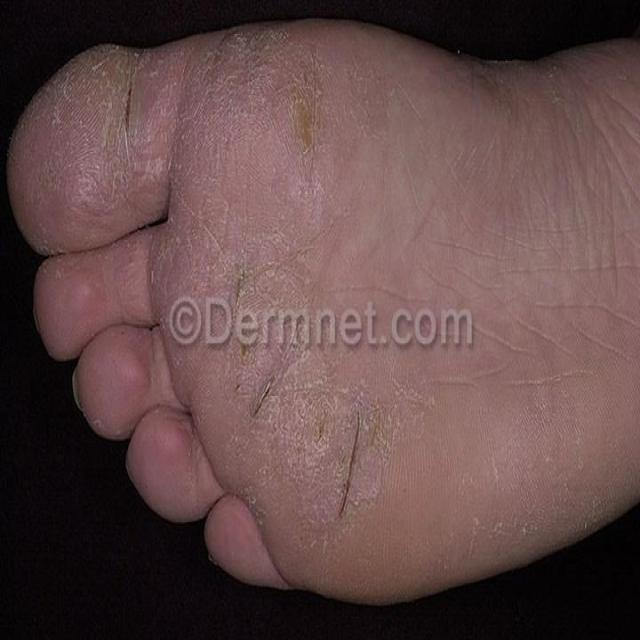Eczema: (11, 27, 428, 537)
